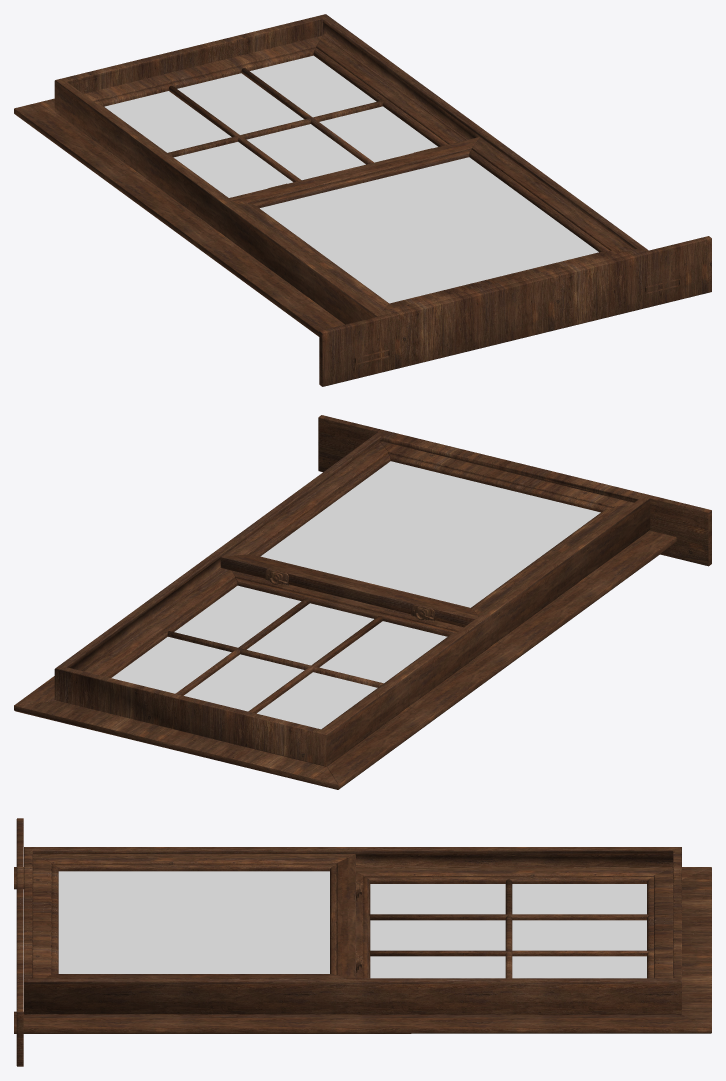
Rendered from original_model.fbx.
The picture shows the model from 3 angles, top to bottom: view 1: azimuth 30°, elevation 25°; view 2: azimuth 150°, elevation 25°; view 3: azimuth 270°, elevation 25°; orthographic projection.
Parts seen in each view (by area): view 1: Stool_cap, Glass_2; view 2: Stool_cap, Glass_2; view 3: Stool_cap, Glass_2.
Boxes of the visible parts, box(x1,y1,x2,y2) form: Stool_cap: box(14, 14, 711, 386); Glass_2: box(104, 55, 598, 303); Stool_cap: box(14, 415, 711, 789); Glass_2: box(111, 461, 600, 729); Stool_cap: box(14, 818, 711, 1066); Glass_2: box(58, 871, 646, 978).
Size of the model in its own units: 105 by 14.02 by 159.
